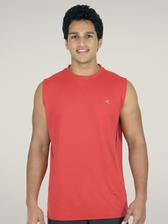clothoes: (31, 63, 136, 221)
